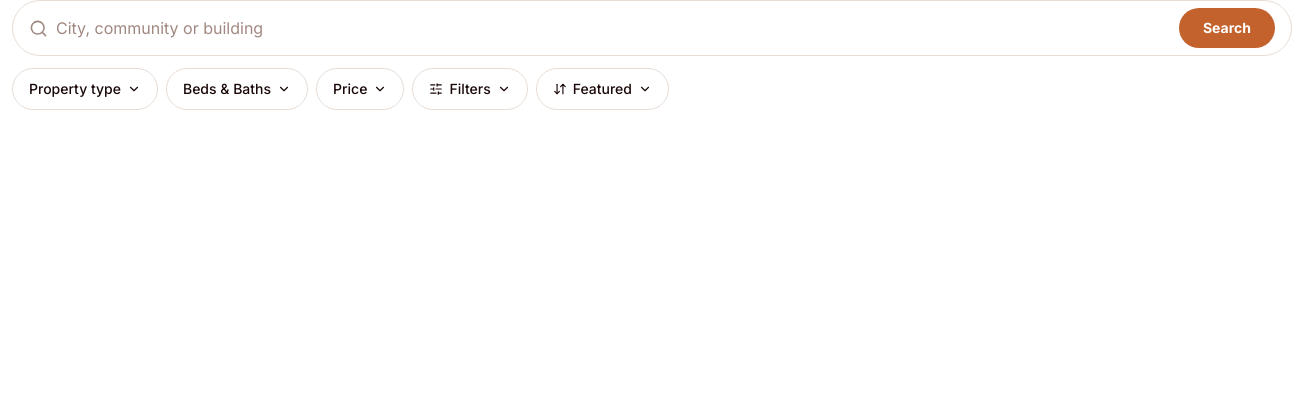
Test case: filter dropdowns › opens on click and closes on Escape
The width and height of the screenshot is (1292, 399).
Expected: the text "Bedrooms" is not shown
Click the button "Beds & Baths" at (237, 89), box [166, 68, 308, 110]
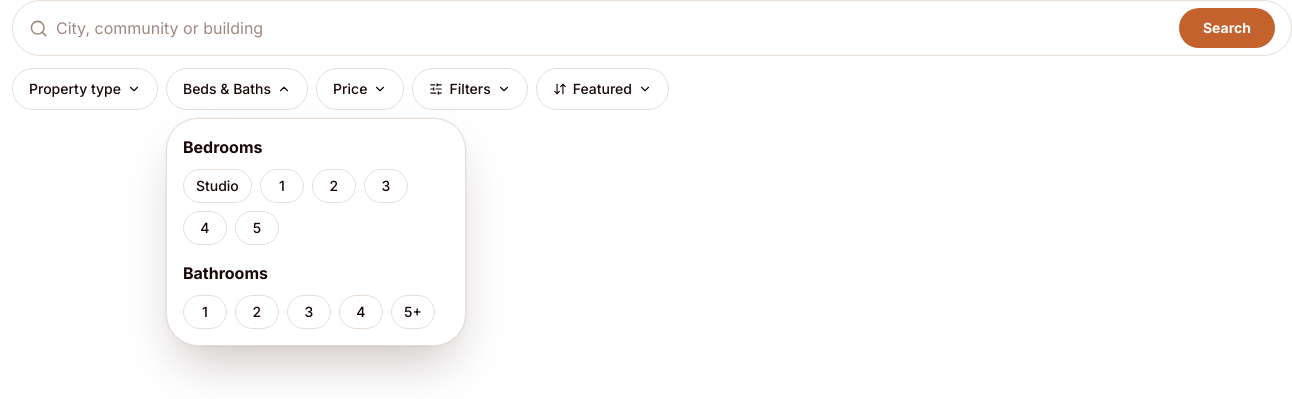
Now the text "Bedrooms" is shown, box [183, 137, 262, 157]
Now the text "Bathrooms" is shown, box [183, 263, 268, 283]
Press Escape
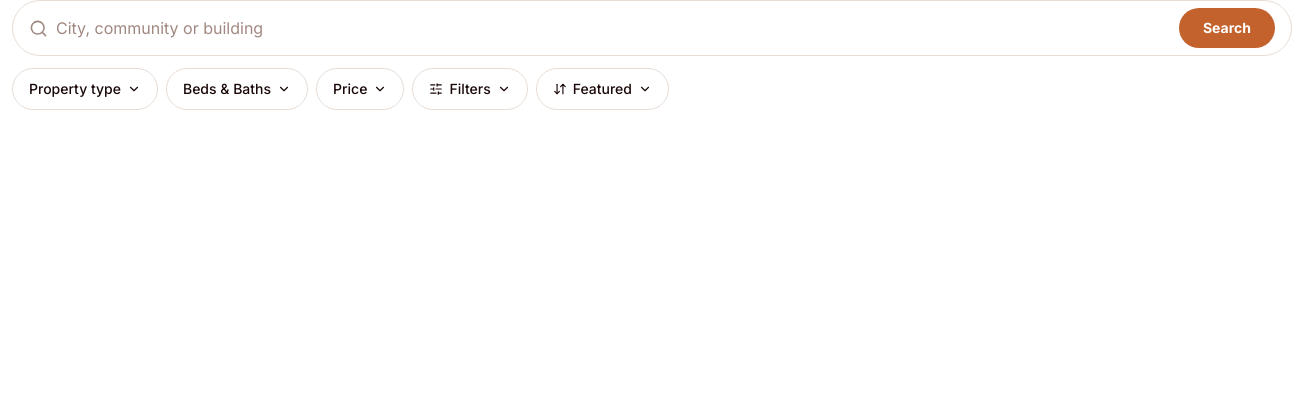
Now the text "Bedrooms" is gone
